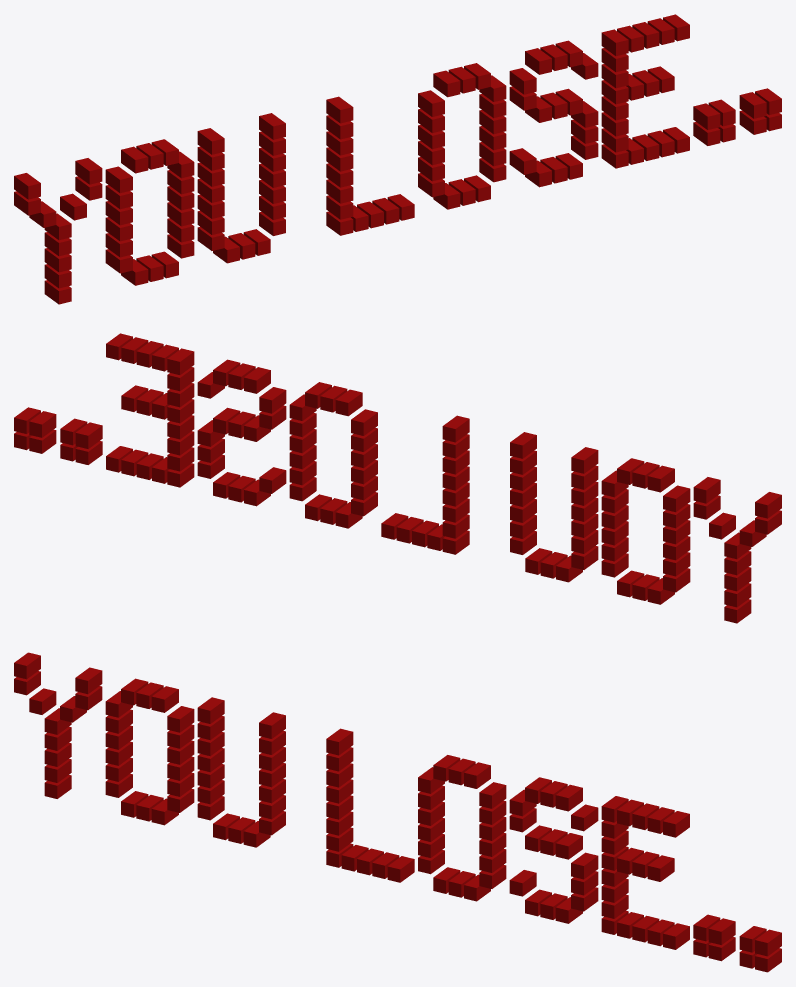
File: You Lose.fbx
3 renders of one model, top to bottom at view 1: azimuth 30°, elevation 25°; view 2: azimuth 150°, elevation 25°; view 3: azimuth 330°, elevation 25°, orthographic.
Visible parts, largest first — view 1: typeMesh2; view 2: typeMesh2; view 3: typeMesh2.
Boxes of the visible parts, <box> form: typeMesh2: <box>14,14,781,304</box>; typeMesh2: <box>14,333,781,623</box>; typeMesh2: <box>14,652,781,972</box>.
Bounding box in the file's own units: 76.36 × 12.17 × 2.5.
